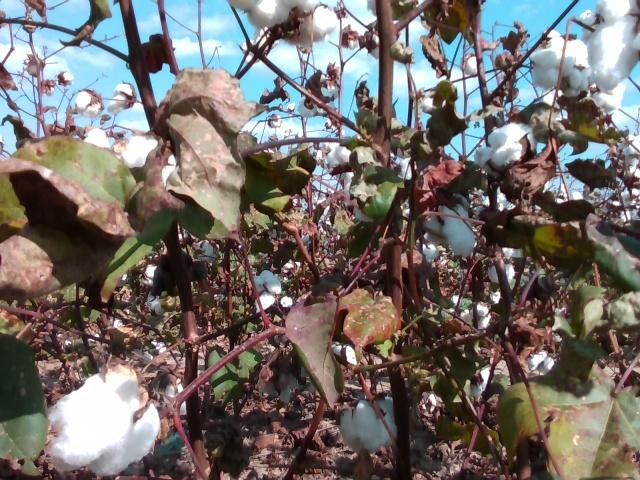cotton_ready: (46, 362, 165, 480), (529, 29, 626, 115), (587, 0, 640, 94), (231, 0, 340, 45), (338, 395, 401, 452), (422, 193, 474, 262), (120, 134, 177, 187), (473, 122, 537, 167), (253, 271, 293, 314)
